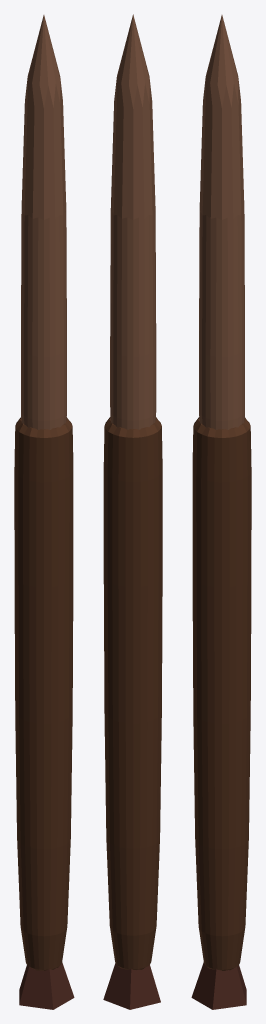
File: Wand 8.glb
The picture shows the model from 3 angles, left to right: view 1: azimuth 90°, elevation 25°; view 2: azimuth 210°, elevation 25°; view 3: azimuth 270°, elevation 25°; orthographic projection.
Parts seen in each view (by area): view 1: GeneratedWand; view 2: GeneratedWand; view 3: GeneratedWand.
Part boxes in pixels (<box>): GeneratedWand: <box>14,15,74,1009</box>; GeneratedWand: <box>103,14,162,1009</box>; GeneratedWand: <box>191,15,251,1009</box>.
Bounding box in the file's own units: 0.0273 × 0.5018 × 0.0278.
